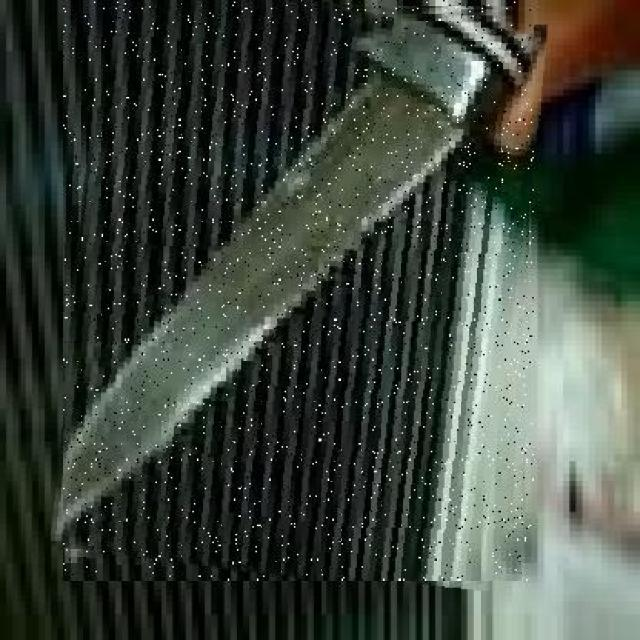knife: (63, 0, 534, 580)
